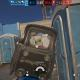Friend_label: (24, 45, 30, 48), (2, 49, 6, 52)
